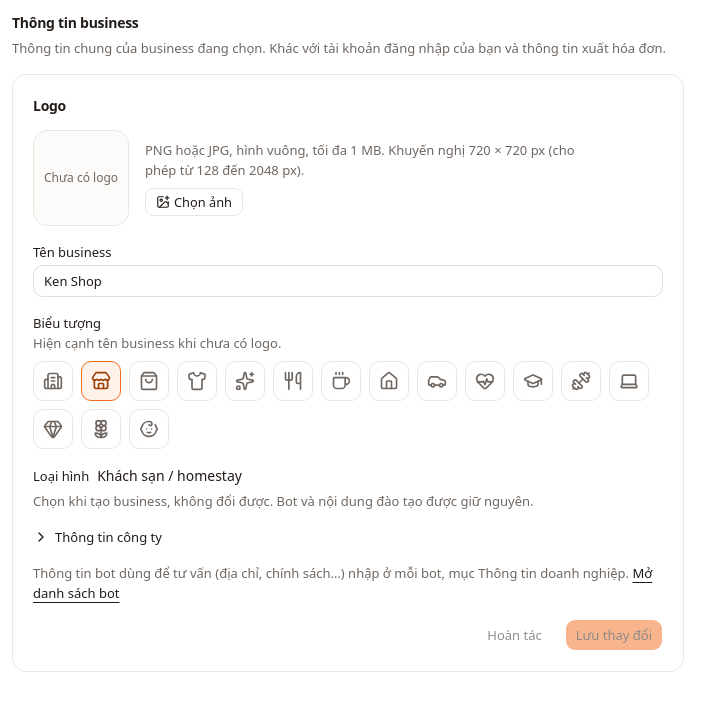
business information page › points to the bot business information and keeps the company name collapsed
The width and height of the screenshot is (701, 709).
Expected: the field labelled "Tên business" is shown, [33,265,663,297]
Expected: the field labelled "Tên công ty (không bắt buộc)" is not shown
Step 1. Click the button "Thông tin công ty" → (97, 537), box [33,527,162,547]
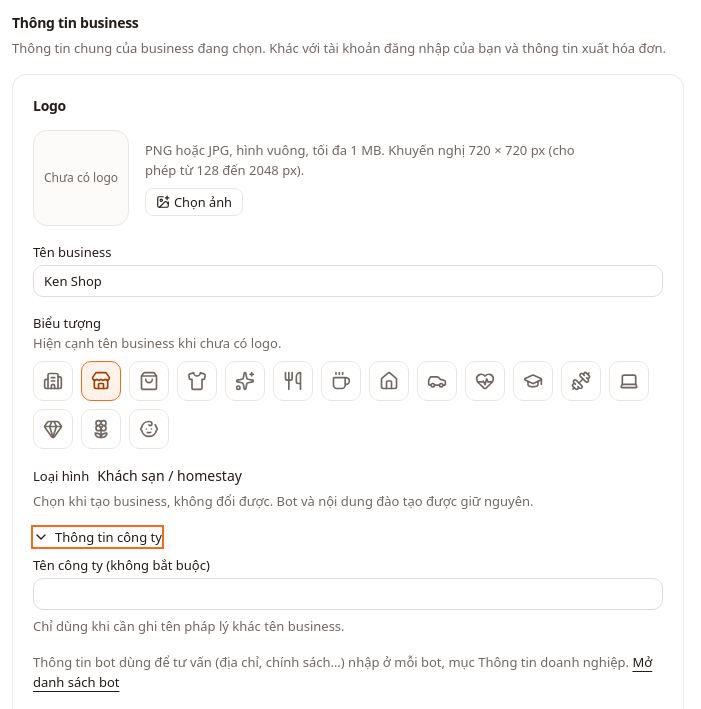
Expected: the field labelled "Tên công ty (không bắt buộc)" is shown, [33,578,663,610]
